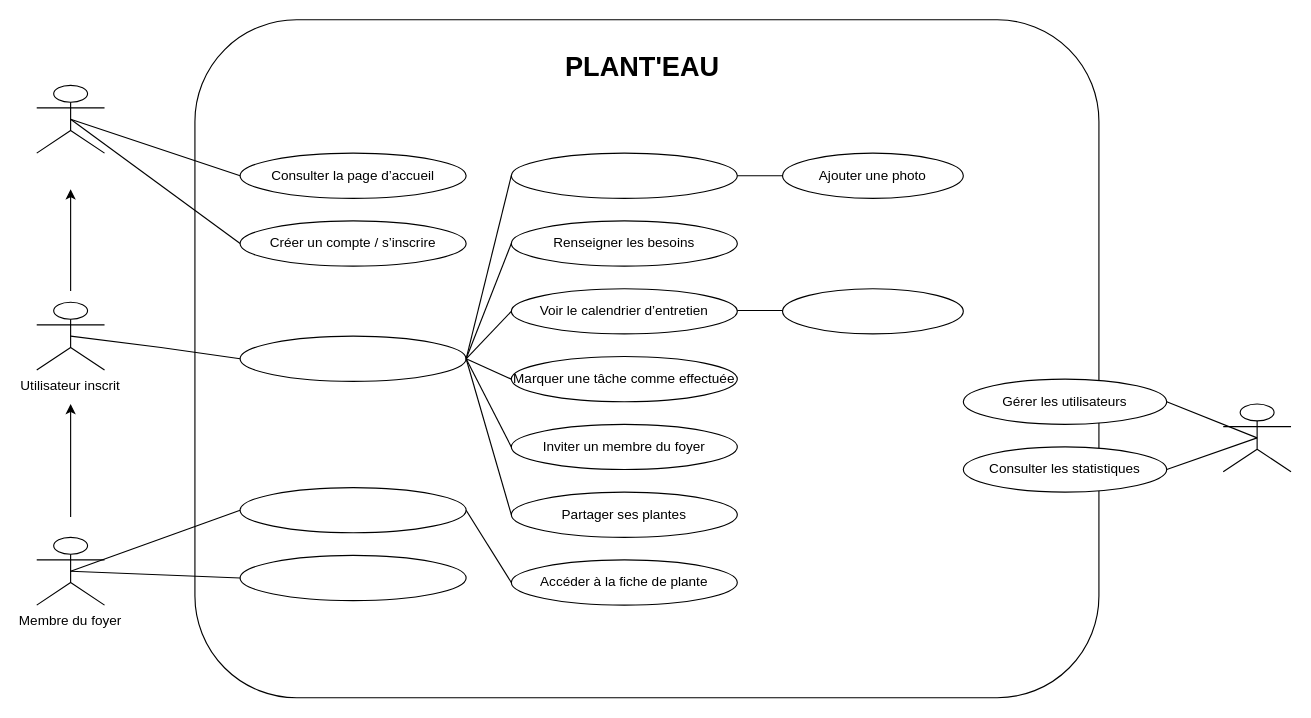
Image size: 1311x718. Some labels were removed from this diagram. The centre of each missing label's shape, as x and y in pixels:
Admin: (1256,437)
Ajouter une plante: (623,175)
Marquer les tâches comme faites: (352,577)
Recevoir des rappels: (872,311)
Se connecter: (352,358)
Visiteur: (70,118)
Voir les plantes partagées: (352,509)
